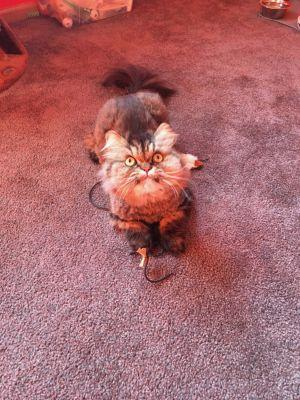persian: (93, 115, 203, 219)
